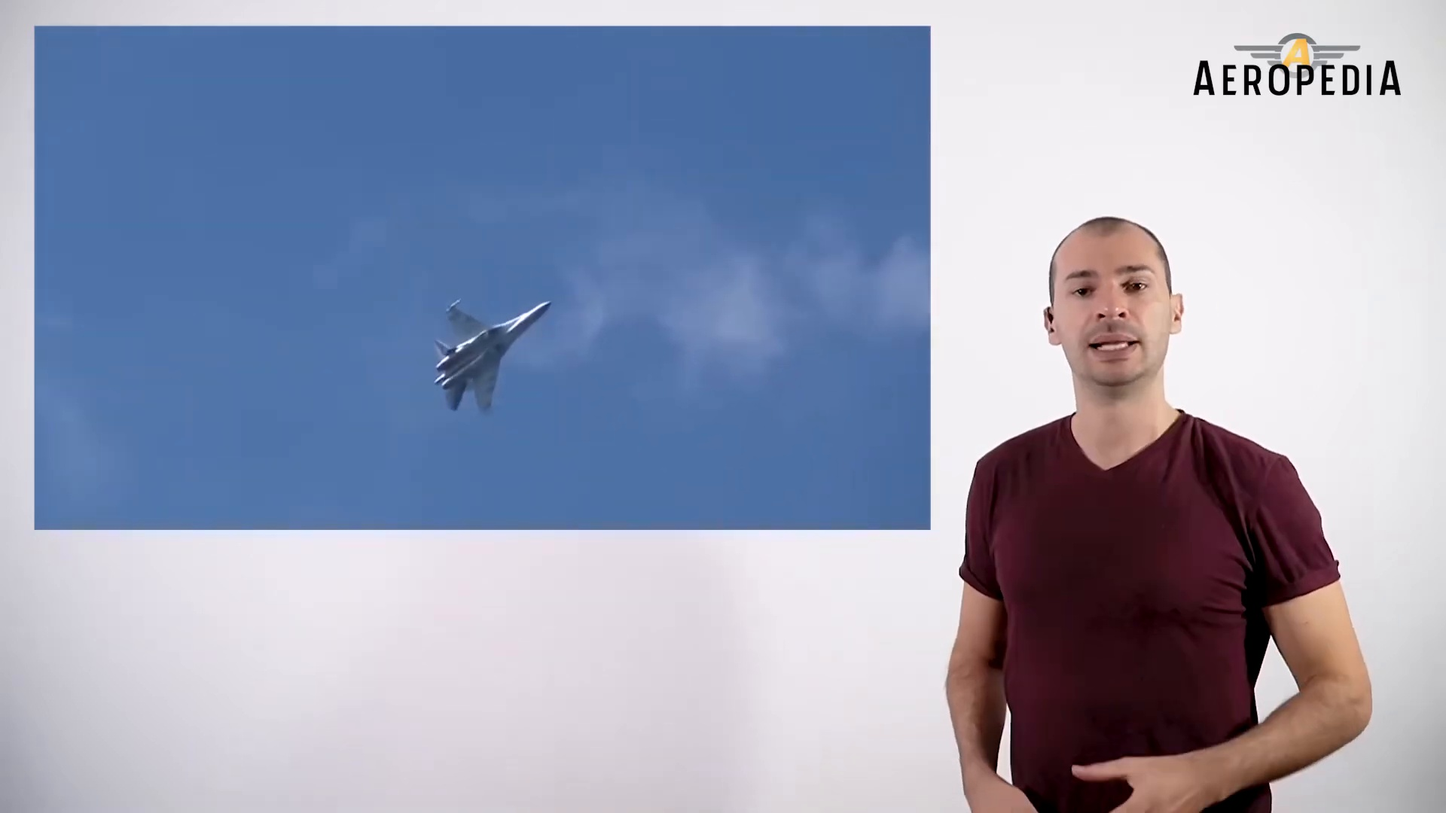Su35: (433, 297, 551, 412)
